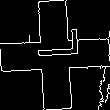L_W: (29, 38, 81, 72)
